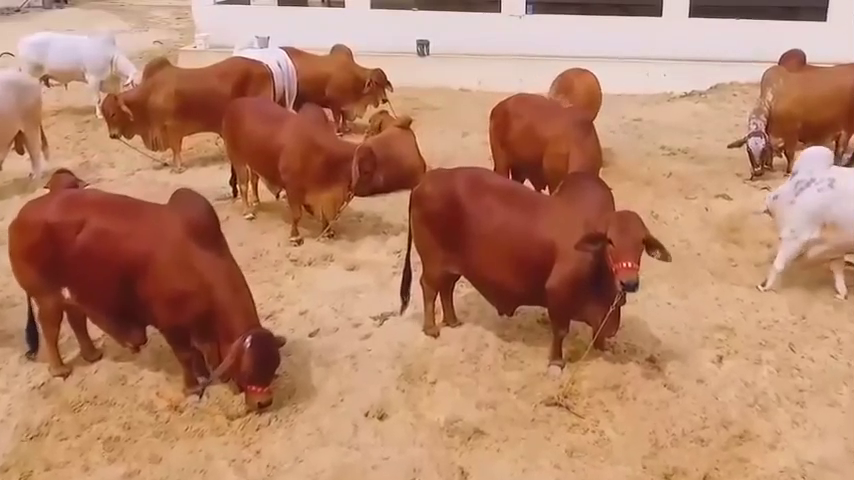bo: (11, 170, 288, 421), (403, 151, 653, 383), (221, 86, 383, 242), (99, 45, 271, 164), (731, 149, 854, 304), (742, 46, 854, 166), (475, 85, 606, 187), (23, 23, 144, 106), (282, 34, 398, 117), (1, 57, 62, 183), (538, 58, 627, 135), (228, 20, 302, 110), (348, 99, 418, 184)
